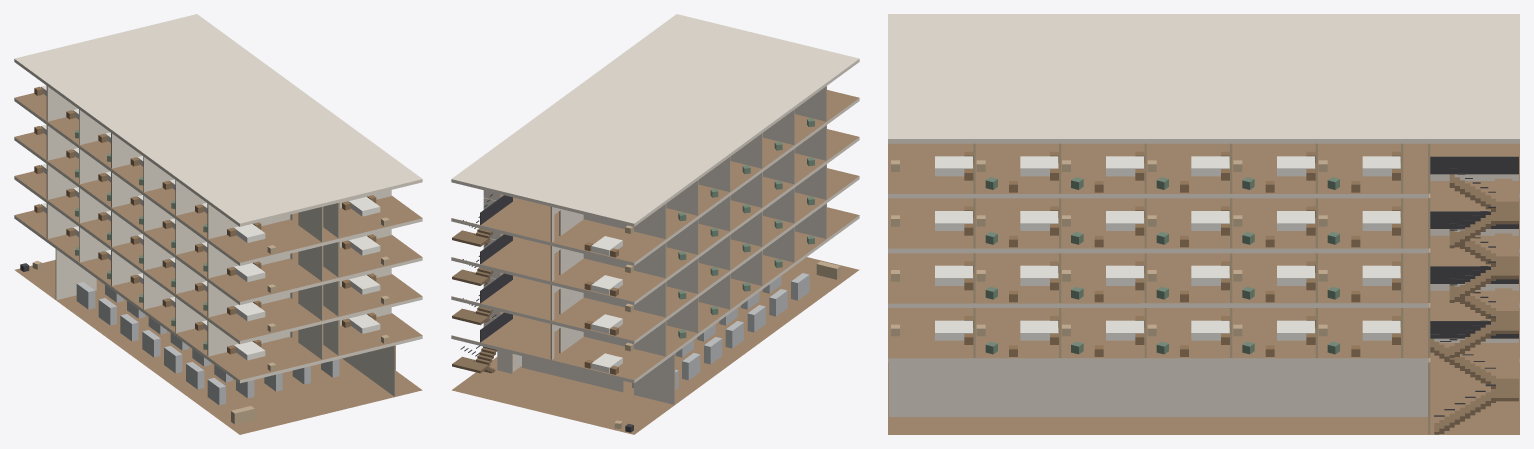
The model's file is interior.glb.
3 views of the same model, side by side, from view 1: azimuth 30°, elevation 25°; view 2: azimuth 150°, elevation 25°; view 3: azimuth 270°, elevation 25° (orthographic). The views are drawn at different scales.
Visible parts, largest first — view 1: slabs, partitions, coarse-s0, coarse-s2, coarse-s4, coarse-s3, coarse-s1; view 2: slabs, partitions, stair, coarse-s0, coarse-s4, coarse-s2, coarse-s3, coarse-s1; view 3: slabs, partitions, stair, coarse-s2, coarse-s4, coarse-s1, coarse-s3.
Part boxes in pixels (<box>): slabs: <box>14,14,422,434</box>; partitions: <box>46,86,395,396</box>; coarse-s0: <box>20,260,339,424</box>; coarse-s2: <box>34,163,389,332</box>; coarse-s4: <box>34,85,389,253</box>; coarse-s3: <box>34,124,389,293</box>; coarse-s1: <box>34,203,389,371</box>; slabs: <box>451,14,859,434</box>; partitions: <box>483,86,826,404</box>; stair: <box>452,194,512,373</box>; coarse-s0: <box>614,261,840,432</box>; coarse-s4: <box>584,118,814,257</box>; coarse-s2: <box>584,196,814,335</box>; coarse-s3: <box>584,157,814,296</box>; coarse-s1: <box>584,235,814,374</box>; slabs: <box>888,14,1519,434</box>; partitions: <box>889,143,1518,434</box>; stair: <box>1430,156,1518,434</box>; coarse-s2: <box>891,261,1400,302</box>; coarse-s4: <box>891,151,1400,192</box>; coarse-s1: <box>891,316,1400,356</box>; coarse-s3: <box>891,206,1400,247</box>.
Bounding box in the file's own units: 15.51 × 17.12 × 33.09.
